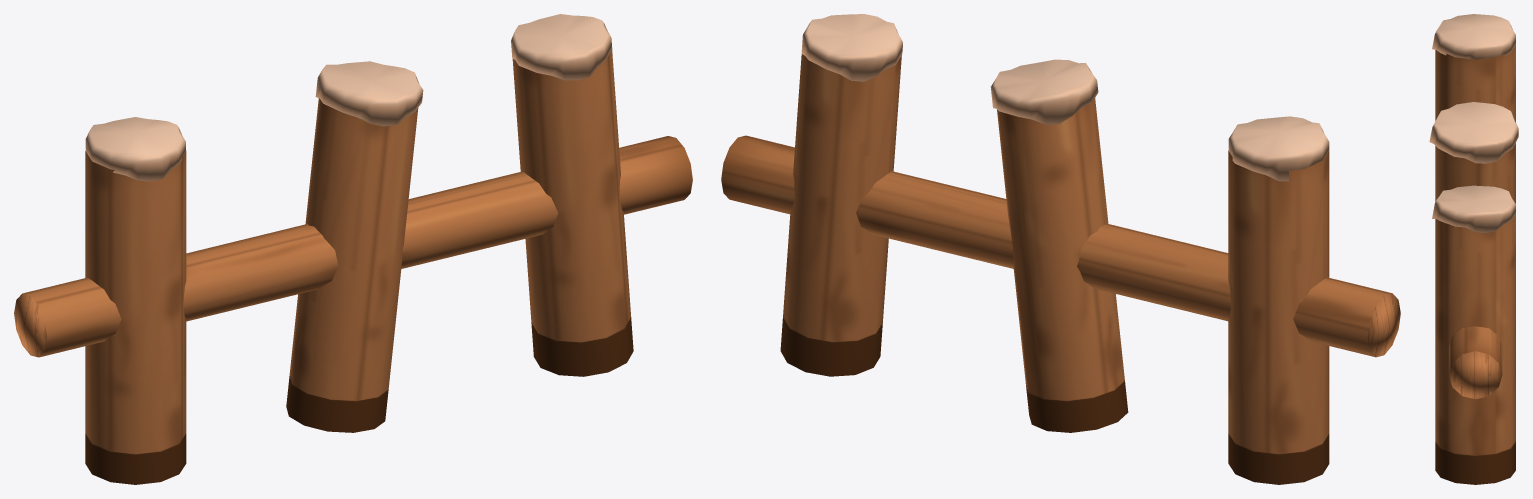
Rendered from gage_inside.fbx.
The picture shows the model from 3 angles, left to right: view 1: azimuth 30°, elevation 25°; view 2: azimuth 150°, elevation 25°; view 3: azimuth 270°, elevation 25°; orthographic projection. The views are drawn at different scales.
Parts seen in each view (by area): view 1: gage_inside_Mesh_001, gage_inside_Mesh_005, gage_inside_Mesh_003, gage_inside_Mesh_006, gage_inside_Mesh_004, gage_inside_Mesh_007, gage_inside_Mesh_002; view 2: gage_inside_Mesh_001, gage_inside_Mesh_003, gage_inside_Mesh_005, gage_inside_Mesh_006, gage_inside_Mesh_004, gage_inside_Mesh_007, gage_inside_Mesh_002; view 3: gage_inside_Mesh_006, gage_inside_Mesh_003, gage_inside_Mesh_004, gage_inside_Mesh_001, gage_inside_Mesh_002, gage_inside_Mesh_007, gage_inside_Mesh_005.
Part boxes in pixels (x1=…): gage_inside_Mesh_001: x1=14, y1=136, x2=692, y2=357; gage_inside_Mesh_005: x1=286, y1=98, x2=418, y2=432; gage_inside_Mesh_003: x1=85, y1=151, x2=186, y2=484; gage_inside_Mesh_006: x1=512, y1=49, x2=633, y2=376; gage_inside_Mesh_004: x1=315, y1=61, x2=423, y2=126; gage_inside_Mesh_007: x1=511, y1=14, x2=612, y2=80; gage_inside_Mesh_002: x1=85, y1=117, x2=185, y2=181; gage_inside_Mesh_001: x1=721, y1=135, x2=1400, y2=357; gage_inside_Mesh_003: x1=1228, y1=150, x2=1329, y2=484; gage_inside_Mesh_005: x1=997, y1=98, x2=1128, y2=432; gage_inside_Mesh_006: x1=780, y1=54, x2=901, y2=376; gage_inside_Mesh_004: x1=990, y1=59, x2=1098, y2=124; gage_inside_Mesh_007: x1=801, y1=14, x2=902, y2=81; gage_inside_Mesh_002: x1=1228, y1=116, x2=1329, y2=181; gage_inside_Mesh_006: x1=1435, y1=215, x2=1515, y2=484; gage_inside_Mesh_003: x1=1435, y1=45, x2=1515, y2=203; gage_inside_Mesh_004: x1=1429, y1=102, x2=1518, y2=163; gage_inside_Mesh_001: x1=1449, y1=326, x2=1502, y2=399; gage_inside_Mesh_002: x1=1432, y1=14, x2=1515, y2=59; gage_inside_Mesh_007: x1=1432, y1=185, x2=1515, y2=232; gage_inside_Mesh_005: x1=1436, y1=144, x2=1515, y2=202.
Bounding box in the file's own units: 150 × 73.5 × 21.81.
